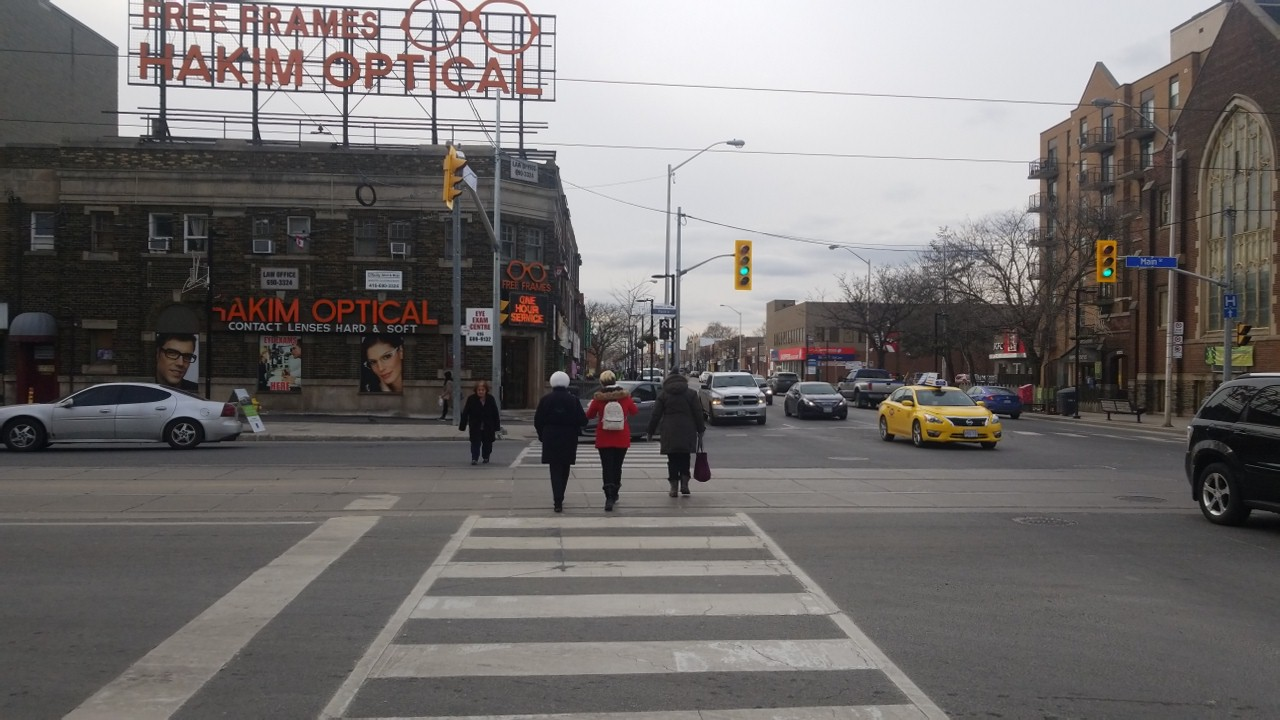light: (657, 316, 673, 342)
